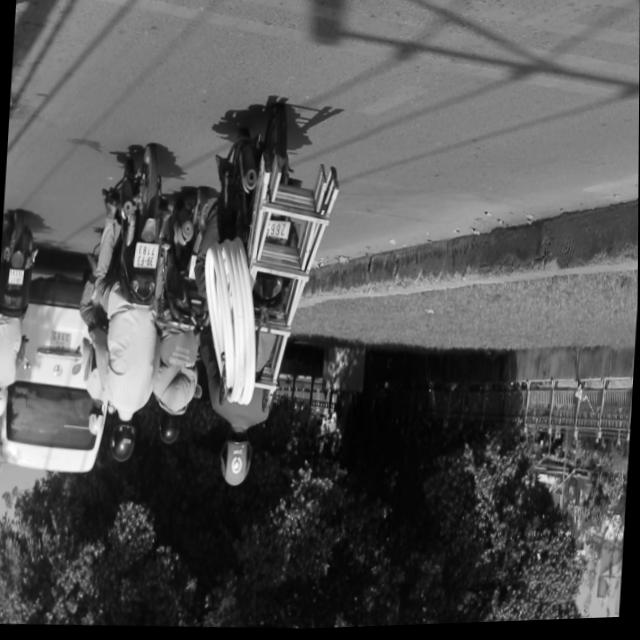helmet: (221, 427, 256, 492), (111, 416, 139, 466), (159, 410, 185, 447), (89, 402, 109, 438), (0, 387, 10, 418)
licenseplate: (191, 97, 345, 499), (81, 144, 174, 470), (148, 185, 216, 453), (0, 212, 42, 420)
nohelmet: (135, 243, 160, 271)
